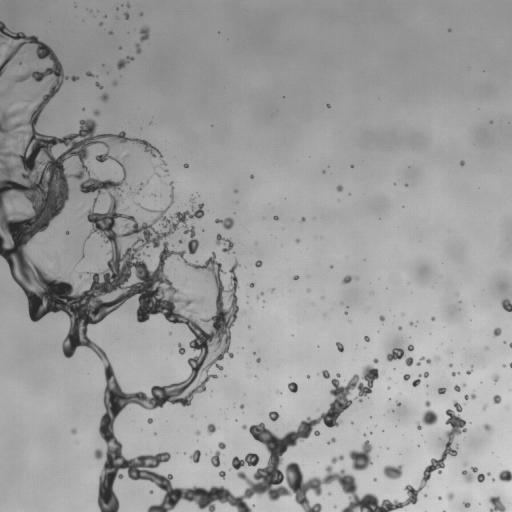droplet: (349, 440, 372, 470), (422, 400, 438, 425), (216, 234, 233, 252), (383, 465, 402, 479), (489, 496, 505, 511), (386, 348, 404, 361), (462, 467, 477, 482), (215, 217, 233, 229), (498, 469, 511, 482), (211, 450, 220, 467), (190, 450, 200, 463), (477, 472, 490, 482), (140, 27, 149, 41), (501, 299, 511, 311), (417, 356, 430, 365), (288, 382, 298, 393), (269, 411, 279, 421), (342, 275, 352, 284), (412, 376, 420, 386), (207, 424, 215, 434), (178, 343, 185, 354), (405, 357, 413, 366), (493, 328, 501, 336), (493, 395, 501, 403), (336, 342, 343, 351), (483, 424, 492, 431), (437, 388, 446, 394), (101, 94, 108, 101), (255, 260, 262, 267), (218, 442, 225, 449), (446, 492, 453, 499), (403, 374, 410, 380), (415, 422, 421, 429), (219, 471, 225, 478), (454, 385, 460, 391), (124, 12, 129, 19), (494, 375, 499, 382), (463, 502, 470, 507), (93, 110, 99, 115), (337, 185, 342, 191), (408, 345, 413, 351), (423, 371, 428, 377), (71, 76, 78, 80), (379, 316, 384, 321), (364, 336, 369, 341), (373, 358, 378, 363), (466, 369, 471, 374), (396, 401, 401, 406), (147, 418, 152, 423), (86, 72, 92, 76), (293, 275, 299, 279), (460, 160, 464, 165), (249, 283, 254, 287), (71, 429, 76, 433), (274, 216, 278, 220), (301, 217, 305, 221), (79, 273, 83, 277), (431, 316, 435, 320), (256, 358, 260, 362), (240, 404, 244, 408), (242, 425, 246, 429), (184, 164, 188, 167), (190, 198, 194, 201), (452, 372, 456, 375), (509, 342, 511, 347), (109, 31, 112, 34), (6, 86, 9, 89), (156, 173, 159, 176), (296, 239, 299, 242), (398, 326, 401, 329), (483, 406, 486, 409), (196, 431, 199, 434), (113, 82, 116, 84), (327, 104, 329, 107), (250, 175, 253, 177), (234, 190, 237, 192), (66, 231, 69, 233), (179, 240, 181, 243), (82, 254, 84, 257), (449, 364, 452, 366), (374, 478, 376, 481), (150, 490, 152, 493), (424, 494, 427, 496), (438, 497, 441, 499), (127, 4, 129, 6), (3, 90, 5, 92), (138, 190, 140, 192), (137, 203, 139, 205), (146, 254, 148, 256), (272, 289, 274, 291), (307, 289, 309, 291), (410, 322, 412, 324), (278, 391, 280, 393), (456, 445, 458, 447)
ligament: (0, 21, 455, 511), (117, 56, 133, 69), (331, 455, 343, 463), (464, 393, 475, 399), (327, 437, 335, 444), (136, 44, 140, 53), (96, 82, 102, 88), (93, 197, 97, 205), (509, 362, 511, 367)
